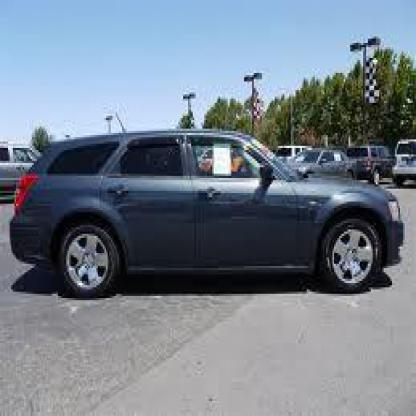Vehicle: (10, 131, 406, 296)
